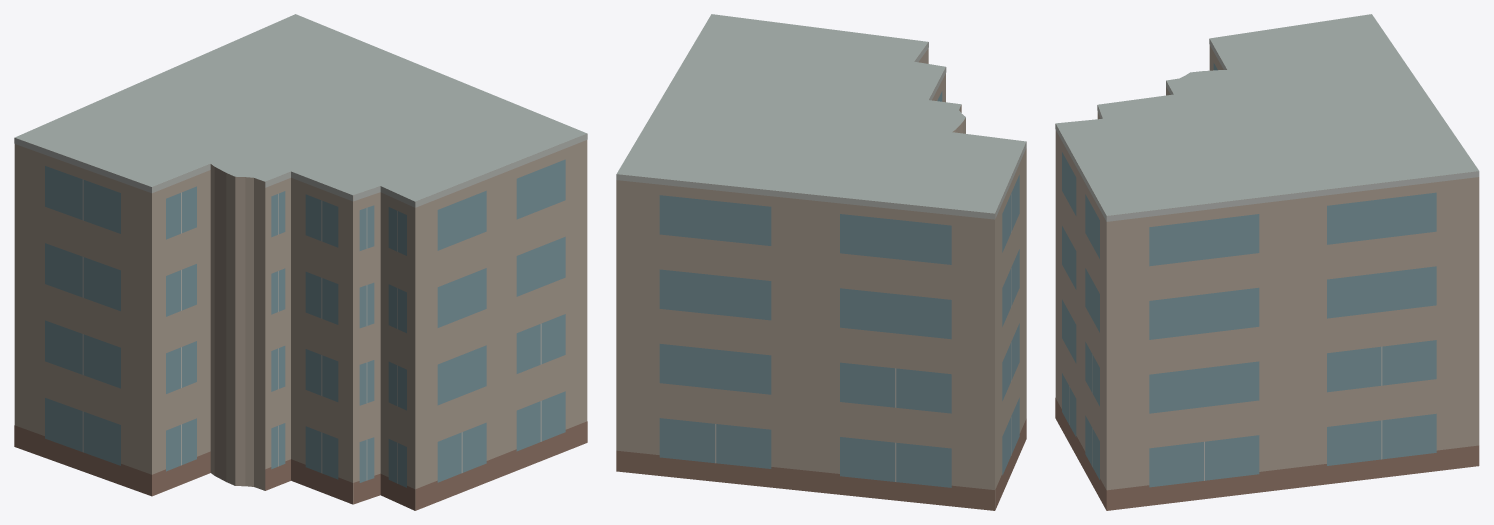
File: survey-upis-32646179.glb
3 renders of one model, left to right at view 1: azimuth 30°, elevation 25°; view 2: azimuth 150°, elevation 25°; view 3: azimuth 270°, elevation 25°, orthographic. The views are drawn at different scales.
Parts seen in each view (by area): view 1: survey-upis-32646179.tmp; view 2: survey-upis-32646179.tmp; view 3: survey-upis-32646179.tmp.
Part boxes in pixels (x1=…): survey-upis-32646179.tmp: x1=14, y1=14, x2=587, y2=510; survey-upis-32646179.tmp: x1=616, y1=14, x2=1026, y2=510; survey-upis-32646179.tmp: x1=1055, y1=14, x2=1479, y2=510.
Bounding box in the file's own units: 17.93 × 12.2 × 15.91.
